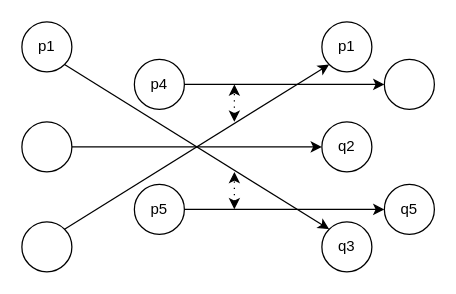
The diagram is 456 pixels wide and 294 high, and some of its shapes have lost their labels. The centre of each missing label's shape, as x and y in pixels:
p2: (46,146)
p3: (46,246)
q4: (408,83)
